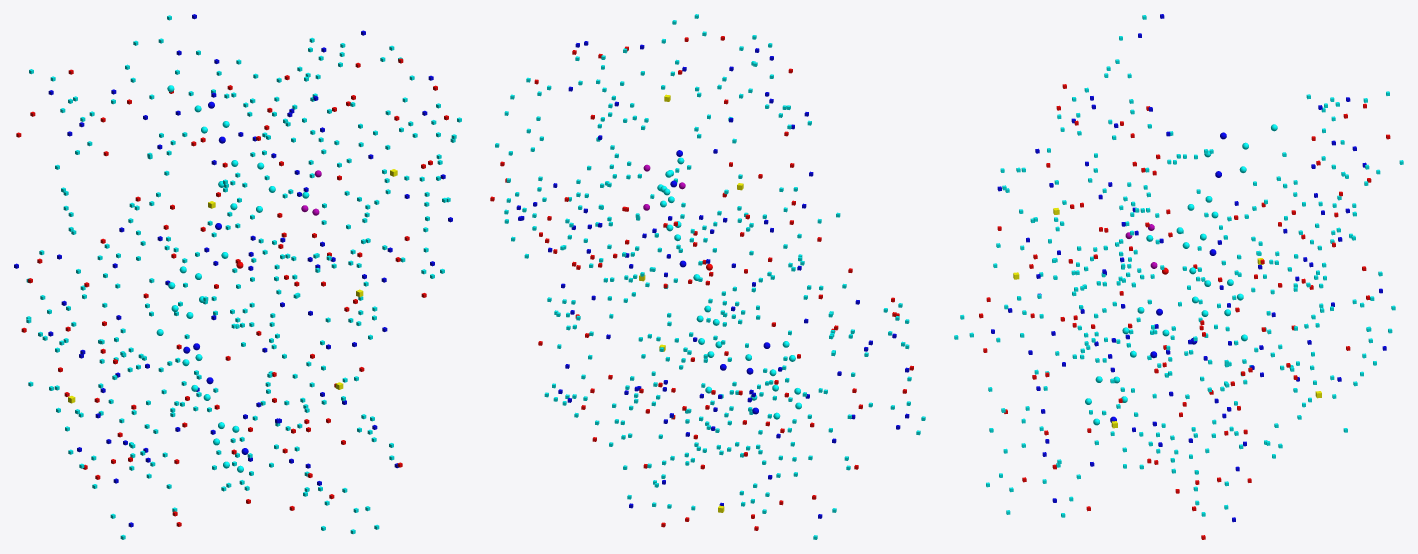
File: nil_b.glb
3 renders of one model, left to right at view 1: azimuth 30°, elevation 25°; view 2: azimuth 150°, elevation 25°; view 3: azimuth 270°, elevation 25°, orthographic. The views are drawn at different scales.
Size of the model in its own units: 2.99 by 3.53 by 2.96.
